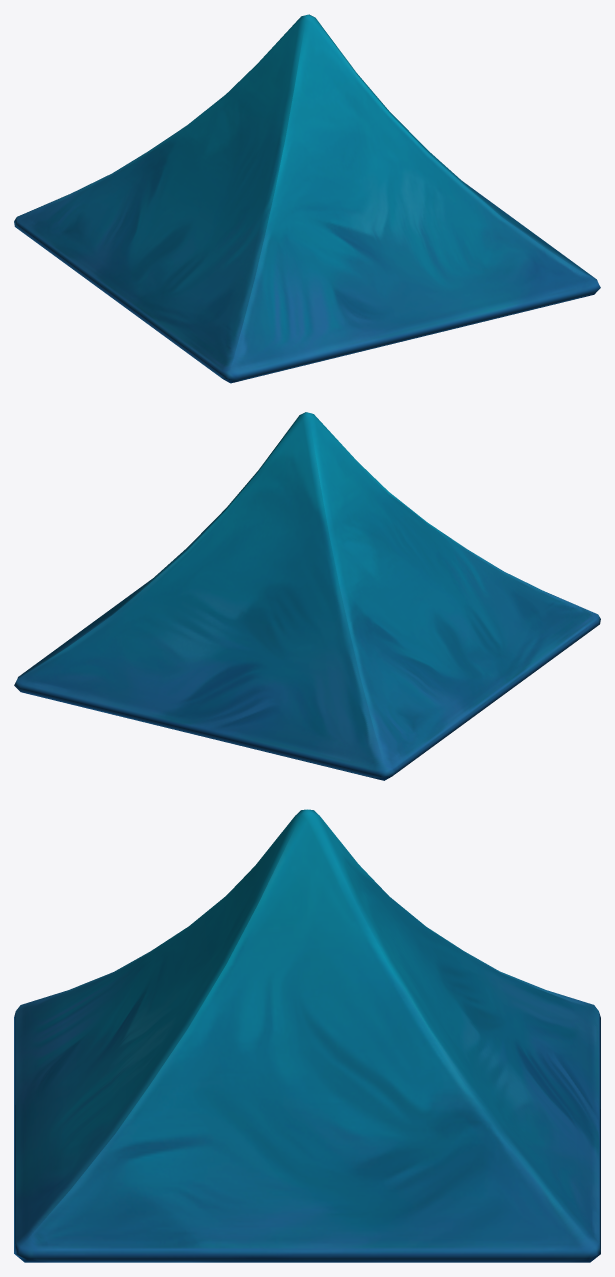
The model's file is TopColumn_v2.fbx.
3 views of the same model, one above another, from view 1: azimuth 30°, elevation 25°; view 2: azimuth 150°, elevation 25°; view 3: azimuth 270°, elevation 25° (orthographic). The views are drawn at different scales.
Parts seen in each view (by area): view 1: TopColumn_v2; view 2: TopColumn_v2; view 3: TopColumn_v2.
Boxes of the visible parts, x1,y1,x2,y2 form: TopColumn_v2: (14, 14, 600, 383); TopColumn_v2: (14, 412, 600, 780); TopColumn_v2: (14, 809, 600, 1262).
Bounding box in the file's own units: 104 × 65.27 × 104.
